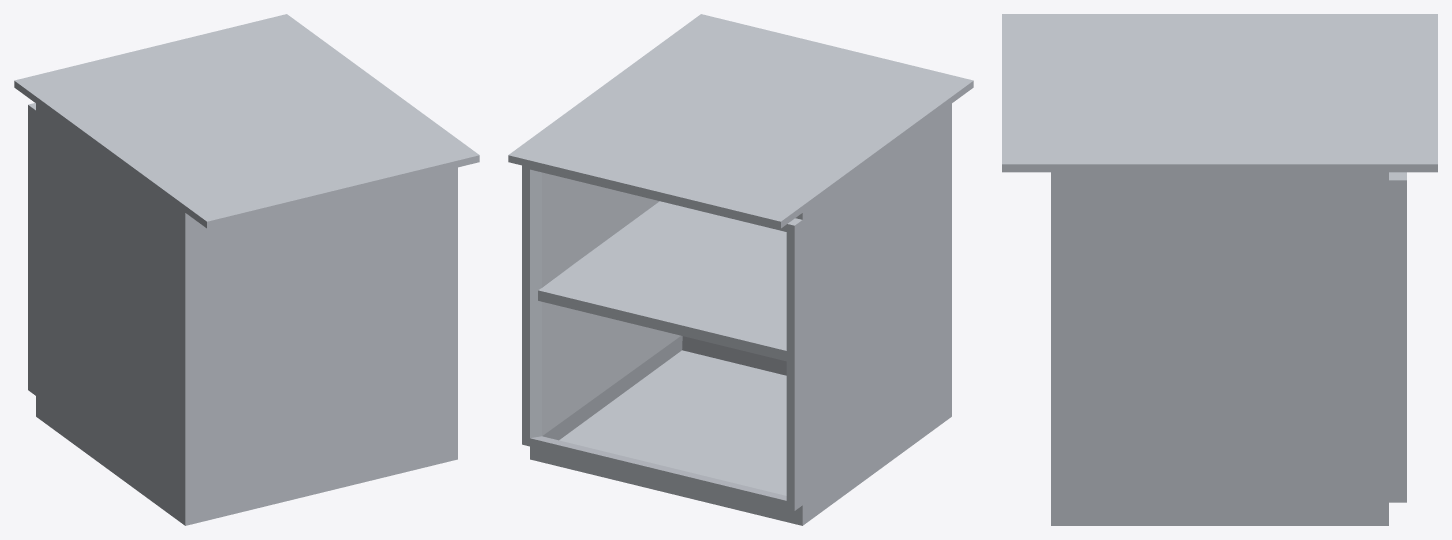
The model's file is counter_counter_2_shelves.fbx.
3 renders of one model, left to right at view 1: azimuth 30°, elevation 25°; view 2: azimuth 150°, elevation 25°; view 3: azimuth 270°, elevation 25°, orthographic. The views are drawn at different scales.
Parts seen in each view (by area): view 1: counter_counter_2_shelves.001; view 2: counter_counter_2_shelves.001; view 3: counter_counter_2_shelves.001.
Boxes of the visible parts, x1,y1,x2,y2 form: counter_counter_2_shelves.001: (14, 14, 479, 525); counter_counter_2_shelves.001: (508, 14, 973, 525); counter_counter_2_shelves.001: (1002, 14, 1437, 525).
Size of the model in its own units: 6202 by 6957 by 7599.
1 material, 1 textured.
